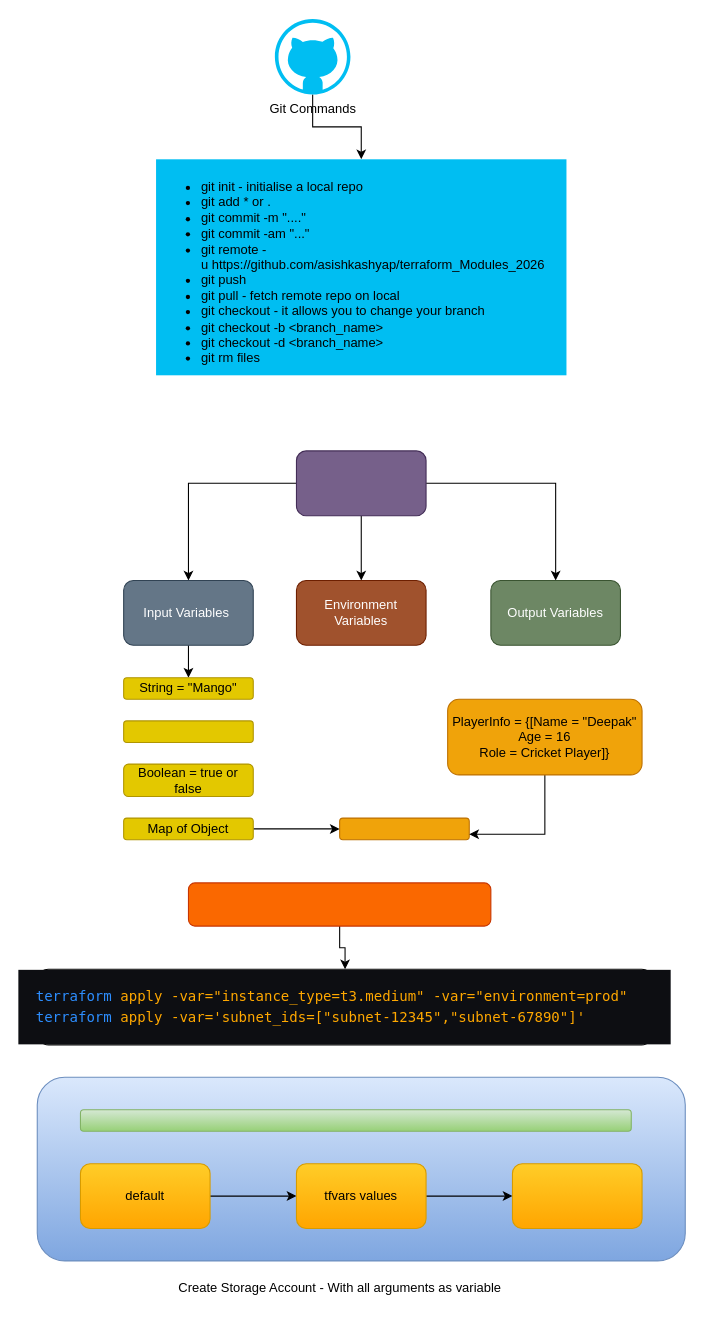
This 704x1333 diagram has some shape labels left out. The shapes that lost their labels are listed below. From the top down, each one's centre as x and y in pixels, then its label:
At point 360,483: "Terraform Variables".
At point 188,731: "Integer = 123".
At point 404,828: "Will cover it later".
At point 339,904: "We declare arguments as variables in Terraform.".
At point 355,1120: "Priority order for variables values in code".
At point 576,1195: "Inline terminal value".
